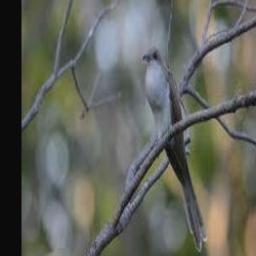Cuckoo: (142, 45, 207, 251)
